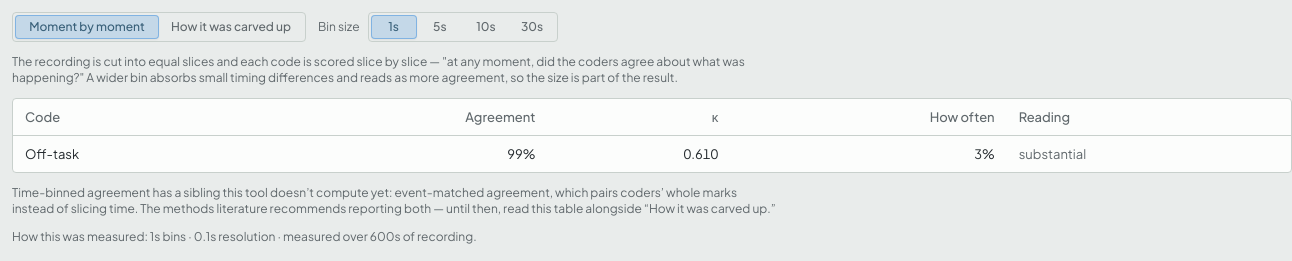
it: OpenCutReliability › acknowledges the missing event-matched half — on the binned view only
The image size is (1292, 261).
Check: the column heading "Off-task" is shown, box left=13, top=136, right=255, bottom=172
Check: the text "event-matched" is shown, box left=12, top=185, right=776, bottom=216
Click the tab "How it was carved up": (231, 27) left=159, top=15, right=303, bottom=39
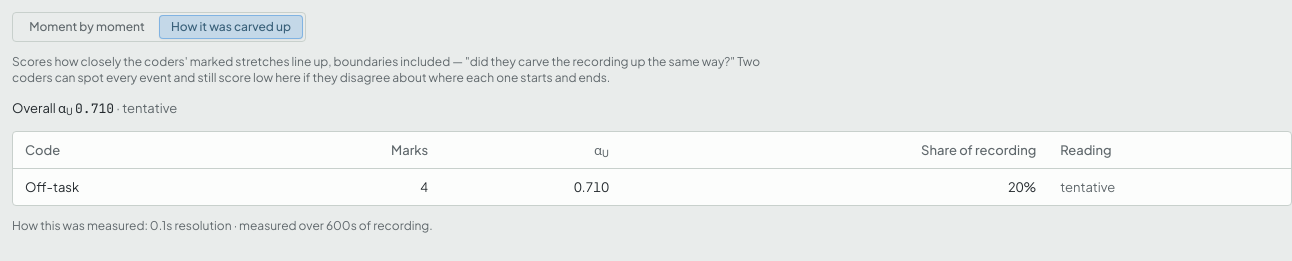
Check: the column heading "Marks" is shown, box left=253, top=132, right=440, bottom=168
Check: the text "event-matched" is gone
